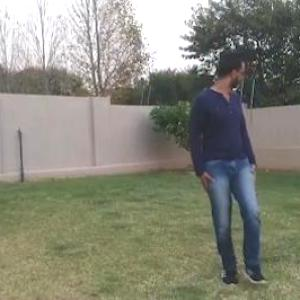follow: (199, 44, 256, 274)
